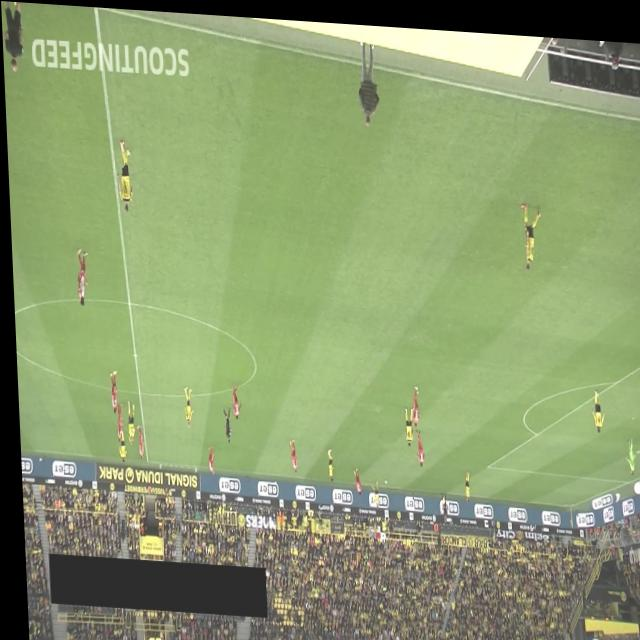goalkeeper: (620, 426, 631, 466)
player: (518, 195, 540, 263), (113, 137, 132, 211), (72, 245, 87, 305), (586, 381, 602, 425), (179, 384, 191, 425), (409, 424, 420, 462), (227, 380, 238, 417), (399, 401, 409, 441), (122, 398, 131, 442), (407, 379, 416, 423), (105, 369, 114, 411), (113, 428, 123, 461), (112, 401, 119, 439), (349, 462, 358, 491), (365, 475, 374, 502), (203, 442, 211, 472), (133, 422, 140, 456), (285, 434, 292, 468), (322, 444, 329, 476), (459, 464, 465, 497)
referee: (2, 1, 23, 72), (217, 402, 227, 440), (435, 485, 442, 516)
